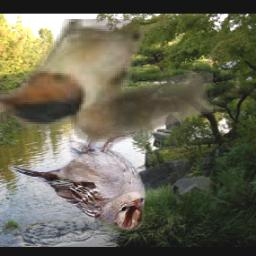Sparrow: (7, 121, 150, 230)
Swallow: (0, 20, 213, 143)
